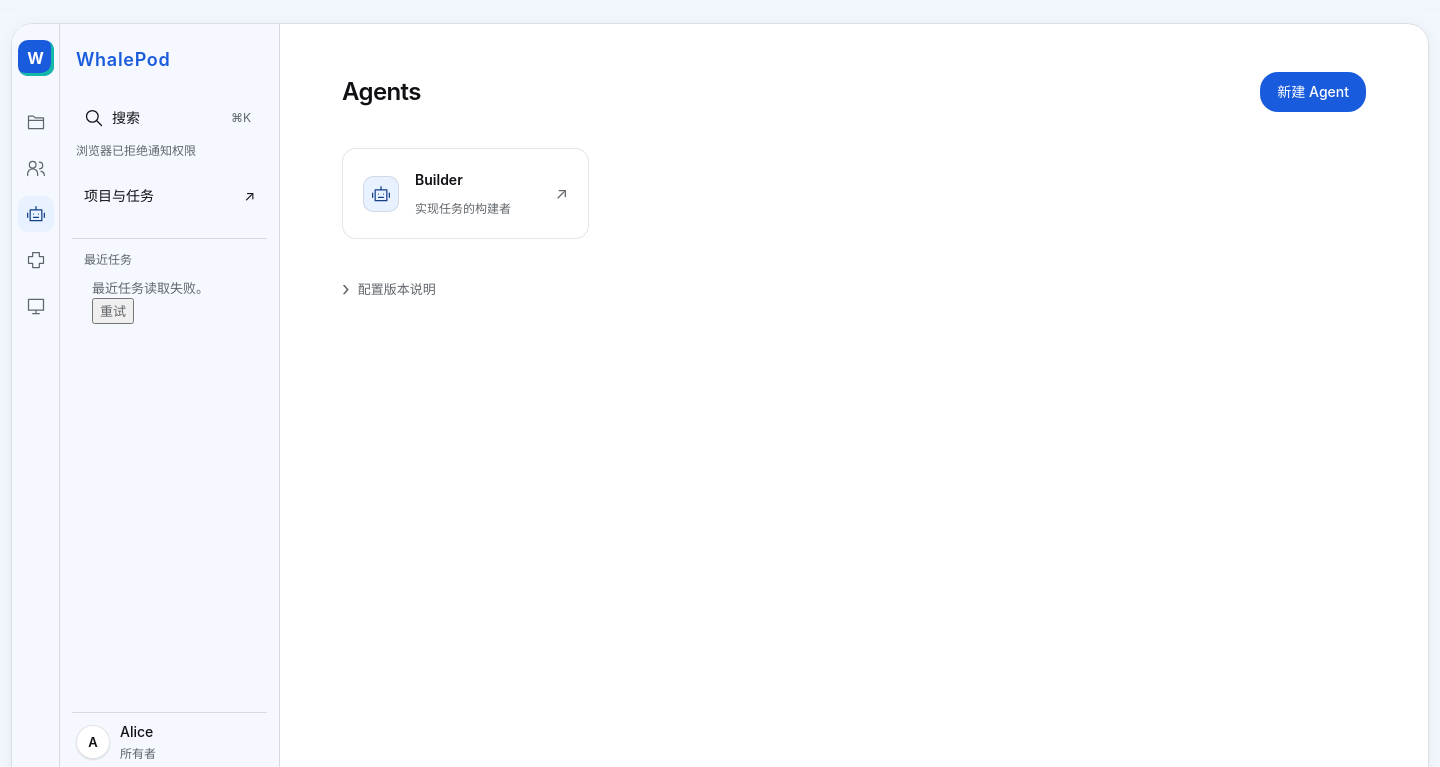
agent-settings › Owner 新建 Revision：预填当前 Revision，下拉换 Pack，载荷与幂等键正确，详情刷新
Click the button "Builder 实现任务的构建者 ↗".
click(466, 194)  # box [342,148,589,239]
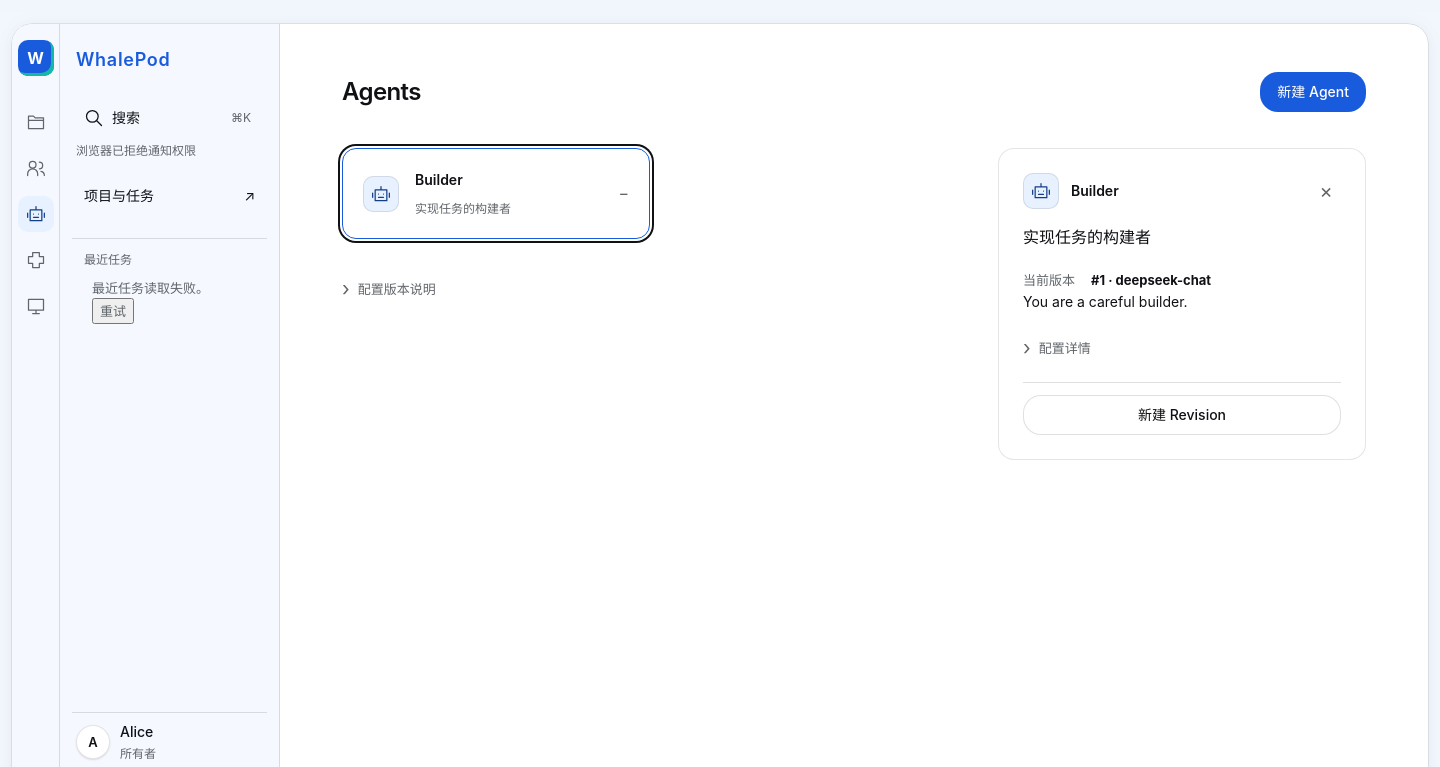
Click the button "新建 Revision".
click(1182, 415)  # box [1023,395,1341,435]
(page scrolled)
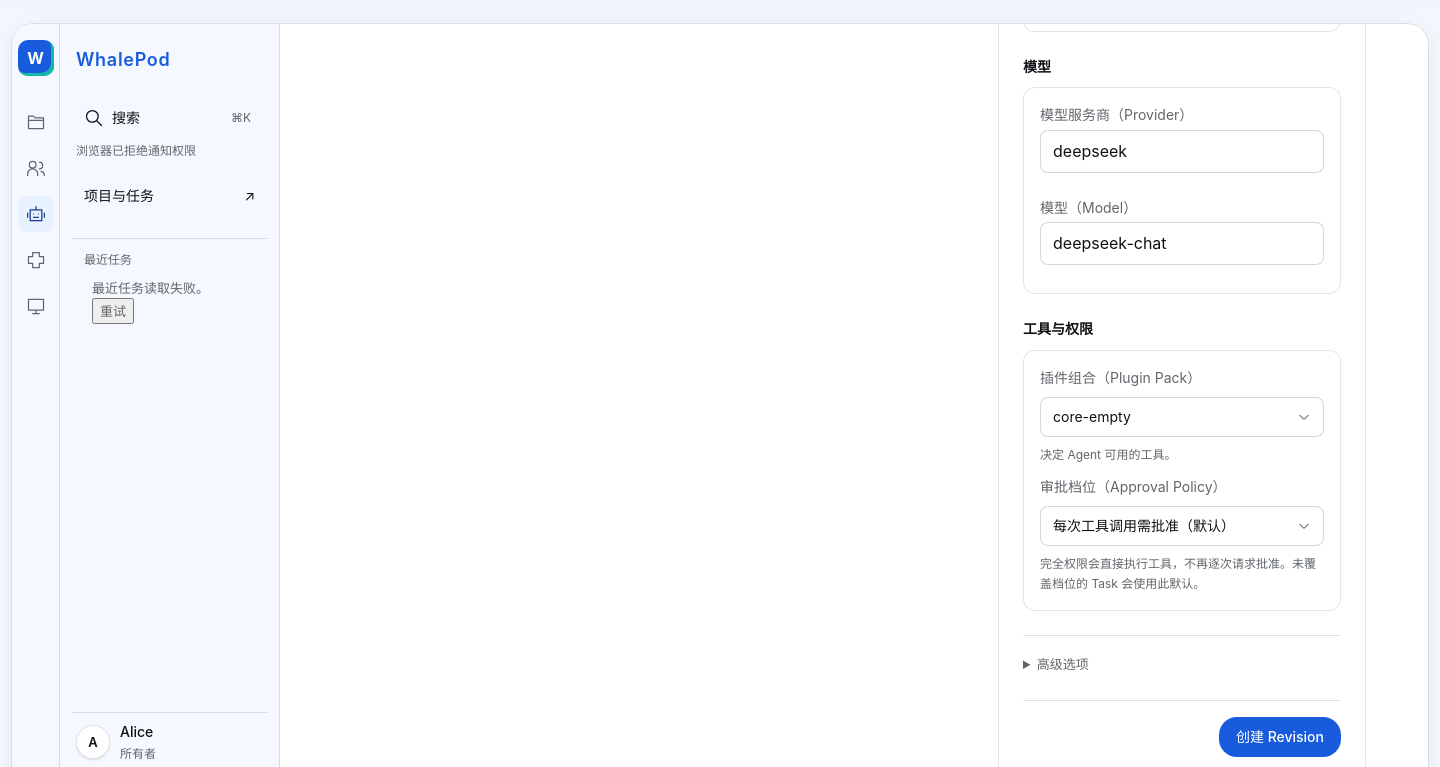
Expected: the field labelled "模型服务商（Provider）" holds "deepseek", [1040,130,1324,173]
Expected: the field labelled "模型（Model）" holds "deepseek-chat", [1040,222,1324,265]
Expected: the element named "凭据槽（Credential Slot）" holds "default", [1023,635,1341,692]
Click the button named "插件组合（Plugin Pack）".
click(1092, 416)  # box [1040,397,1324,437]
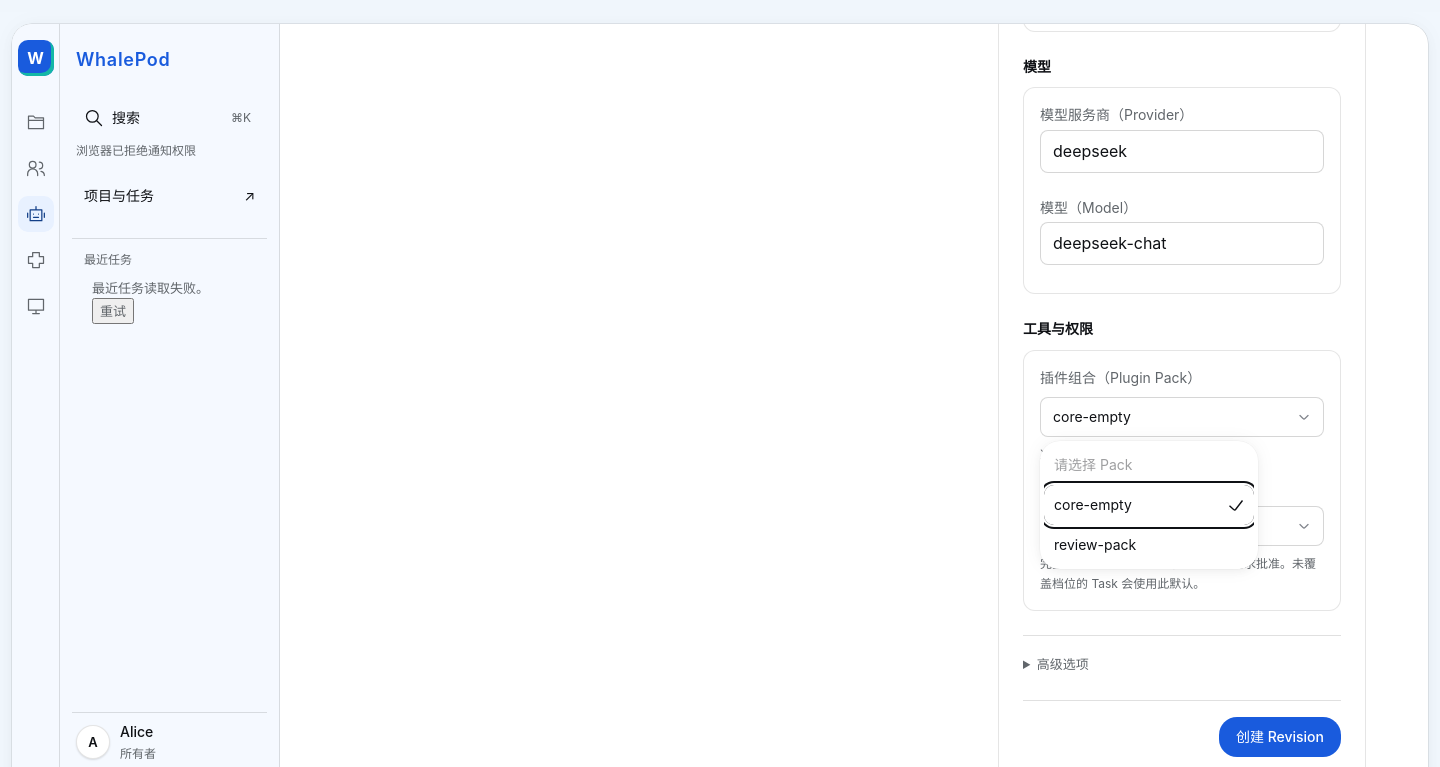
Click the menu item "review-pack".
click(1149, 545)  # box [1044,525,1254,565]
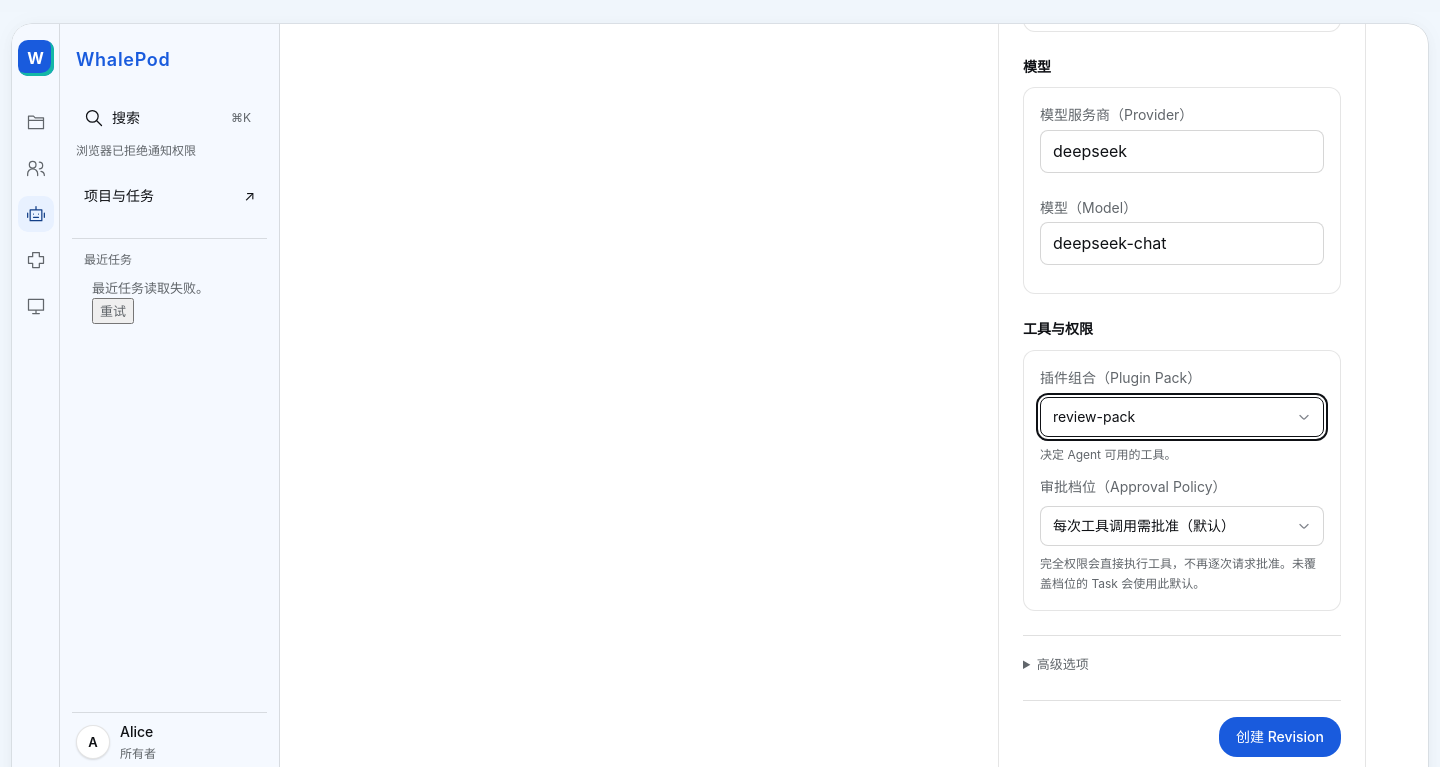
Click the heading "高级选项".
click(1063, 664)  # box [1037,656,1089,672]
(page scrolled)
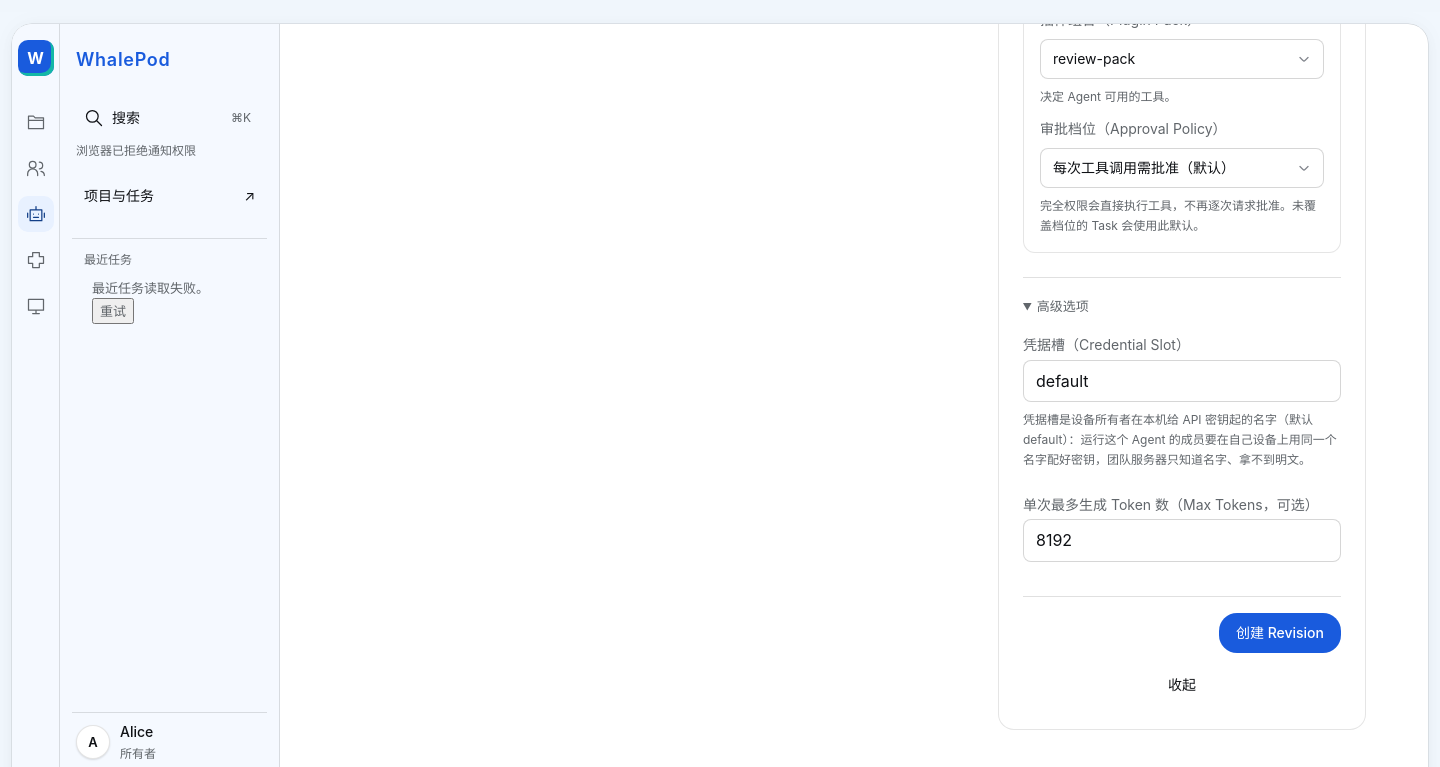
Clear the number field labelled "单次最多生成 Token 数（Max Tokens，可选）" at (1182, 541), box [1023,519,1341,562]
Click the button "创建 Revision".
click(1280, 633)  # box [1219,613,1341,653]
(page scrolled)
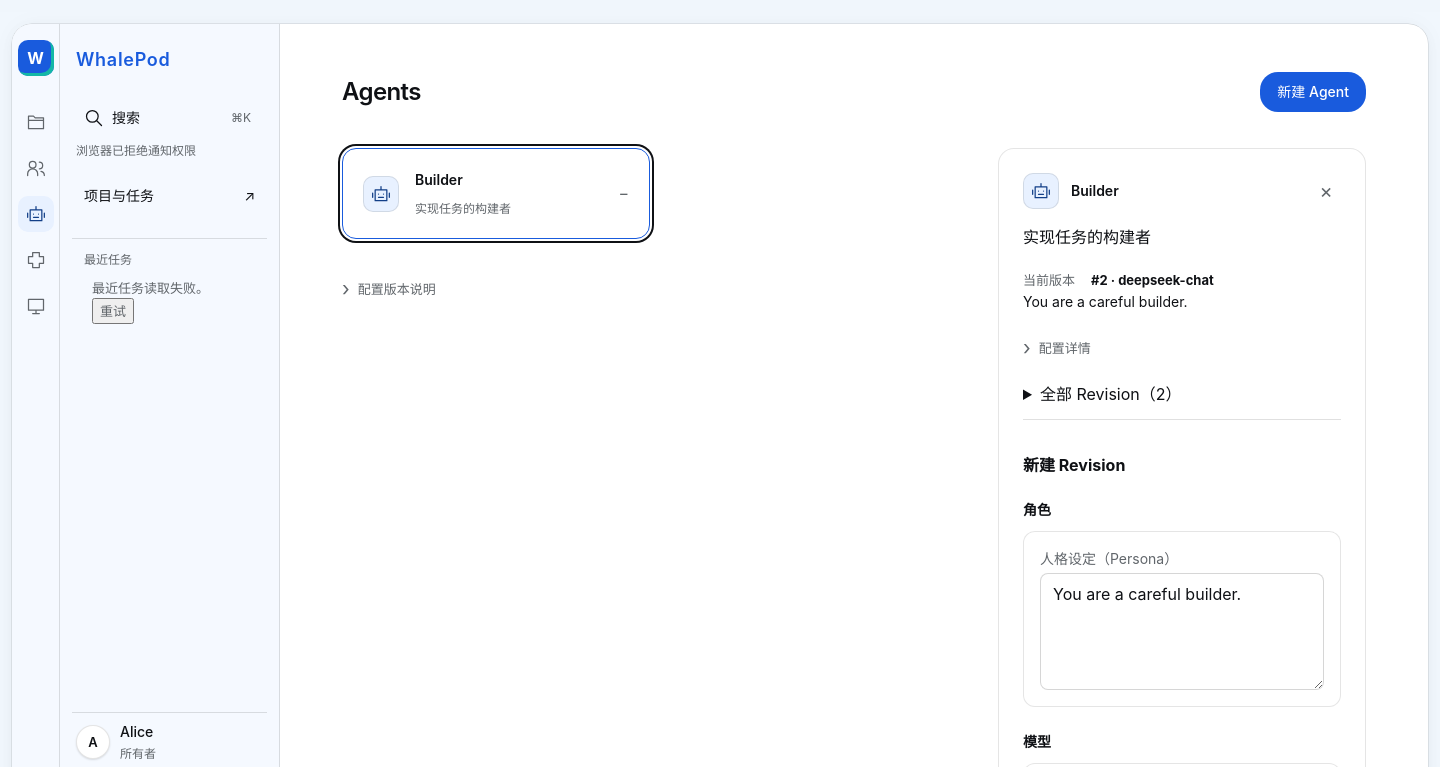
Expected: the text "#2 · deepseek-chat" is shown, [1091,270,1214,290]
